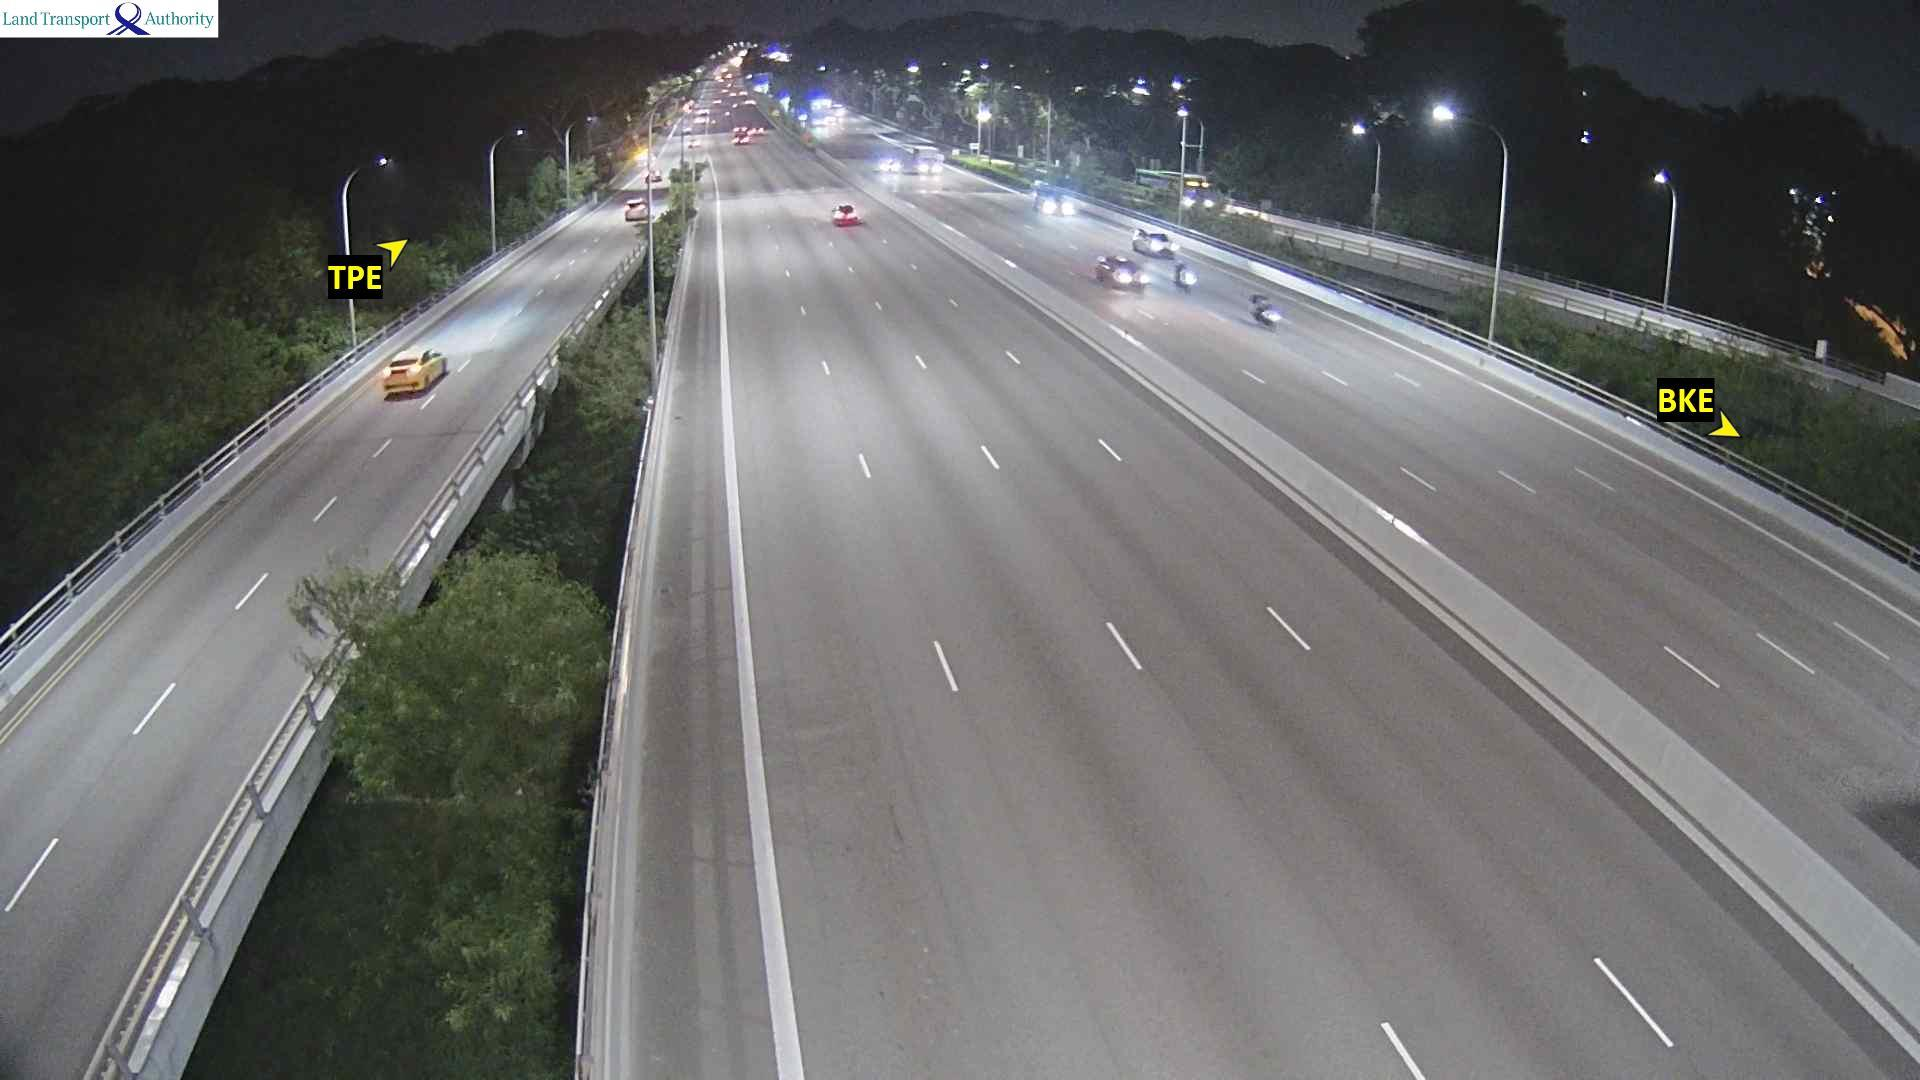bus: (1135, 168, 1212, 209)
cars: (380, 348, 447, 394), (873, 143, 945, 174), (1093, 252, 1150, 289), (1031, 180, 1077, 217), (1131, 226, 1178, 257), (1220, 196, 1260, 218), (731, 123, 770, 144), (912, 147, 944, 172), (831, 202, 859, 226), (624, 195, 648, 220), (873, 153, 901, 173), (731, 125, 750, 144), (801, 129, 817, 148), (686, 134, 701, 148)
motorcycle: (1248, 293, 1281, 327), (1173, 260, 1197, 292)
